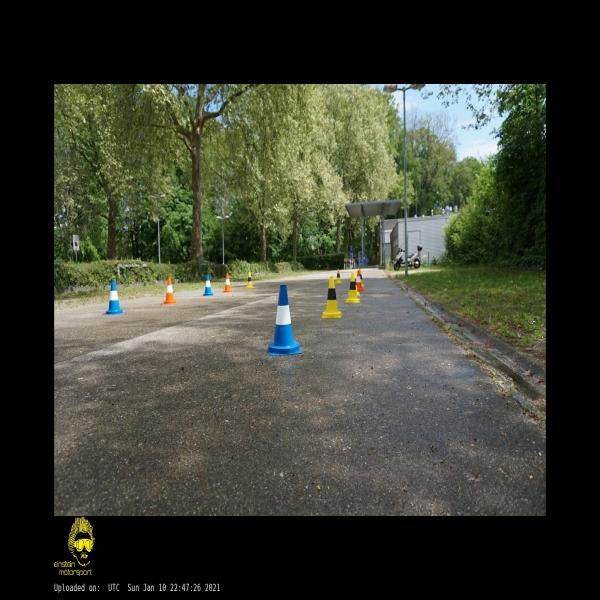blue_cone: (267, 284, 302, 356), (103, 280, 124, 314), (203, 274, 214, 296)
orange_cone: (164, 276, 178, 304), (223, 272, 232, 293), (356, 269, 363, 291)
yellow_cone: (321, 276, 342, 318), (346, 270, 360, 302), (354, 275, 360, 296), (246, 272, 253, 288), (335, 269, 342, 284), (360, 270, 364, 288)
